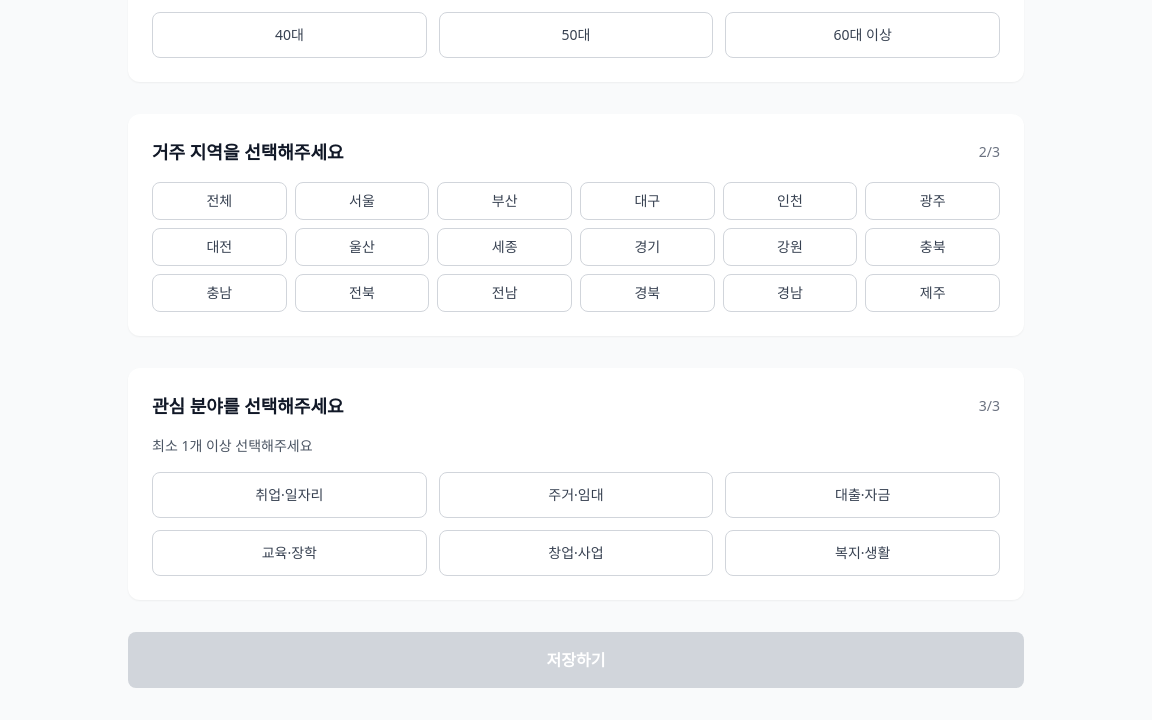
Test: ProfileSetupPage › enables save button when at least one interest is selected
This screenshot has width=1152, height=720.
(page scrolled)
Click the button "취업·일자리" at [289, 495], box [152,472,427,518]
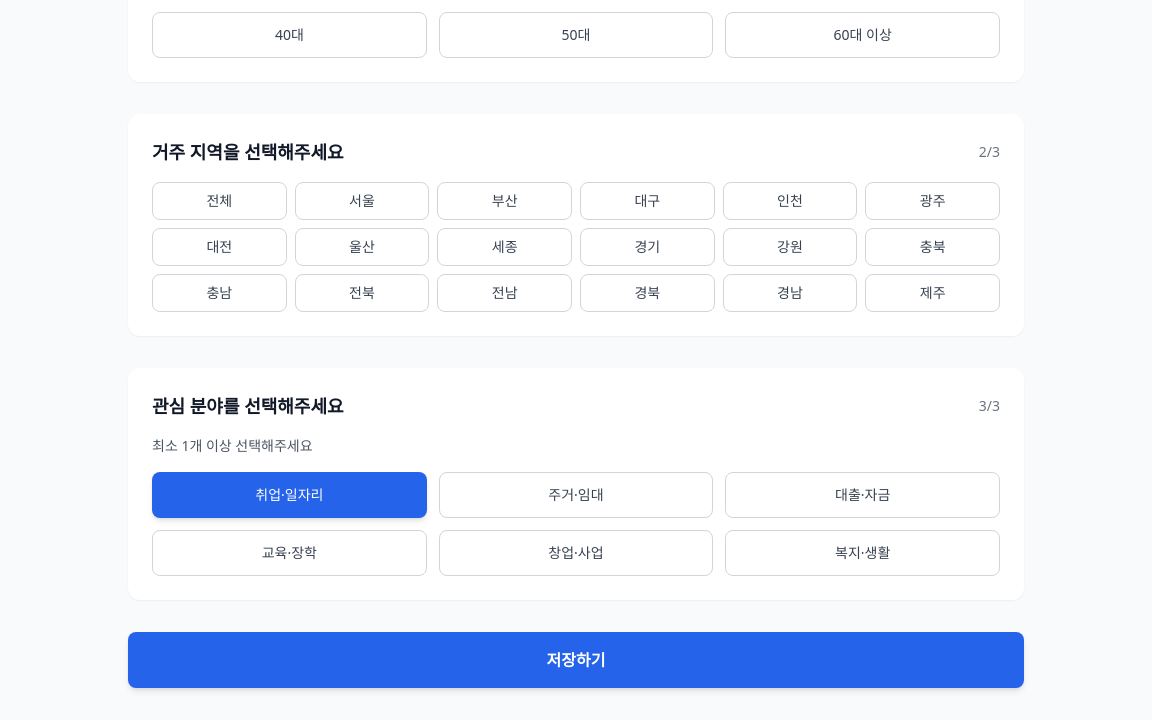
Result: the button "저장하기" is enabled at [128,632,1024,688]
